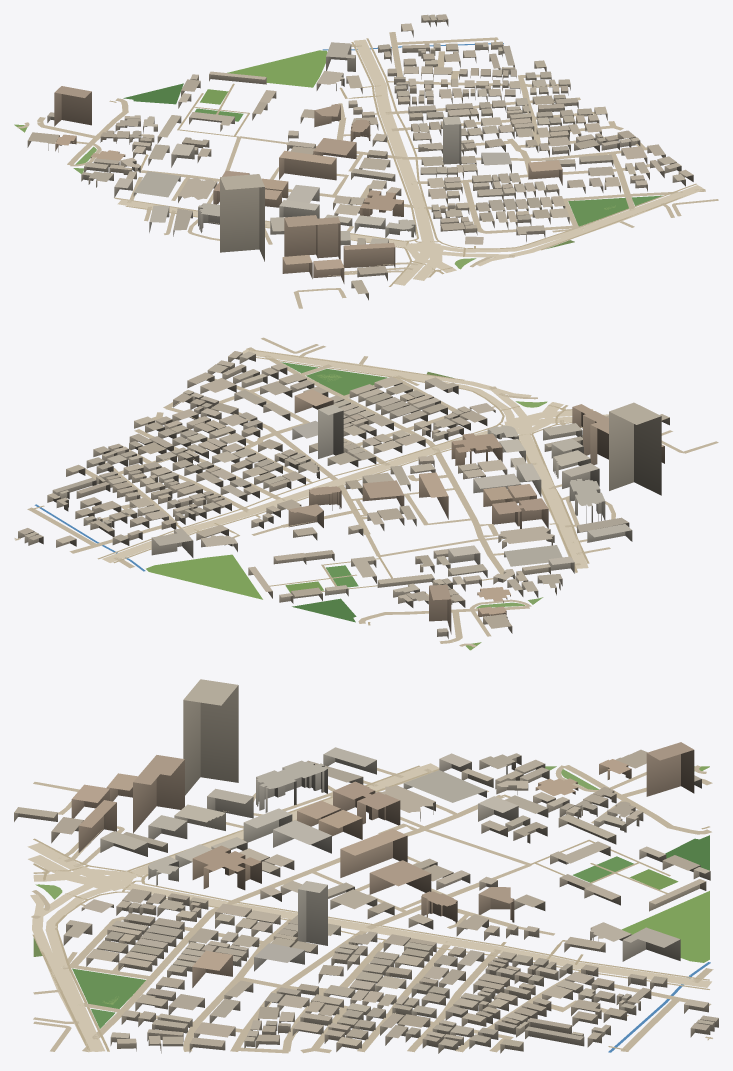
3 renders of one model, top to bottom at view 1: azimuth 30°, elevation 25°; view 2: azimuth 150°, elevation 25°; view 3: azimuth 270°, elevation 25°, orthographic. The views are drawn at different scales.
Parts seen in each view (by area): view 1: building, ground; view 2: building, ground; view 3: building, ground.
Part boxes in pixels (<box>): building: <box>27,14,693,300</box>; ground: <box>14,20,718,308</box>; building: <box>18,351,669,638</box>; ground: <box>14,337,718,650</box>; building: <box>14,679,718,1053</box>; ground: <box>27,763,713,1053</box>.
Size of the model in its own units: 520 by 80 by 521.
